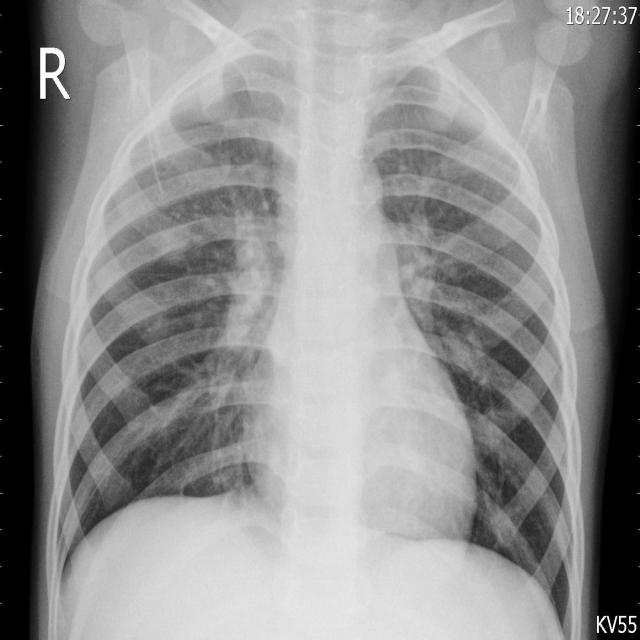high-pneumonia: (135, 24, 302, 194)
low-pneumonia: (194, 190, 291, 483), (366, 50, 523, 206), (390, 189, 498, 390)
